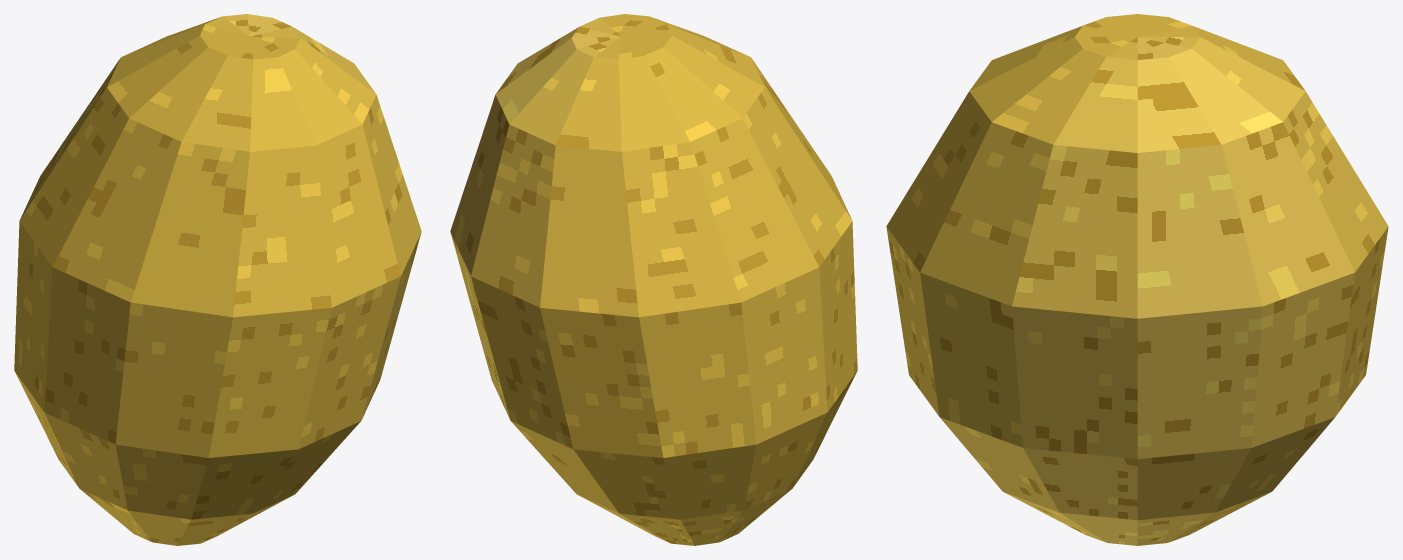
Rendered from lemon.glb.
3 renders of one model, left to right at view 1: azimuth 30°, elevation 25°; view 2: azimuth 150°, elevation 25°; view 3: azimuth 270°, elevation 25°, orthographic. The views are drawn at different scales.
Visible parts, largest first — view 1: block_tapering lemon rind; view 2: block_tapering lemon rind; view 3: block_tapering lemon rind.
Boxes of the visible parts, box(x1,y1,x2,y2) form: block_tapering lemon rind: box(14, 14, 421, 545); block_tapering lemon rind: box(450, 14, 857, 545); block_tapering lemon rind: box(886, 14, 1388, 545).
Bounding box in the file's own units: 0.0676 × 0.088 × 0.0758.
Materials: 1 (1 with a texture image).
